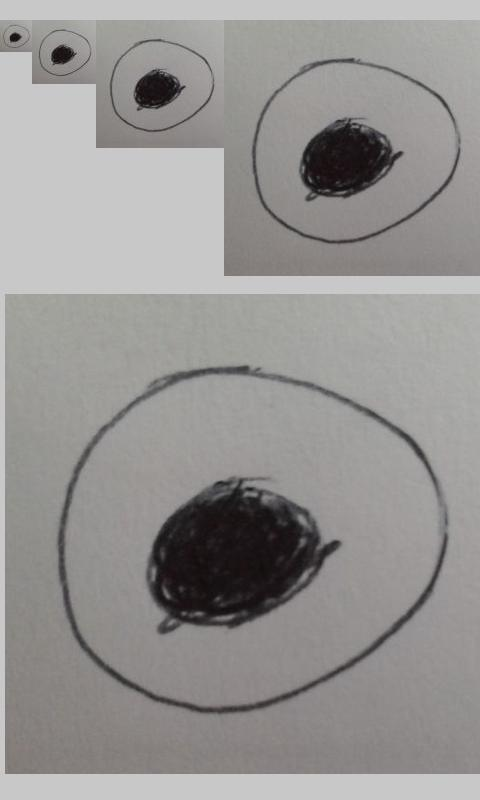radio_button: (54, 363, 451, 717), (251, 55, 463, 246), (109, 38, 215, 133), (38, 29, 92, 77), (2, 23, 31, 49)
